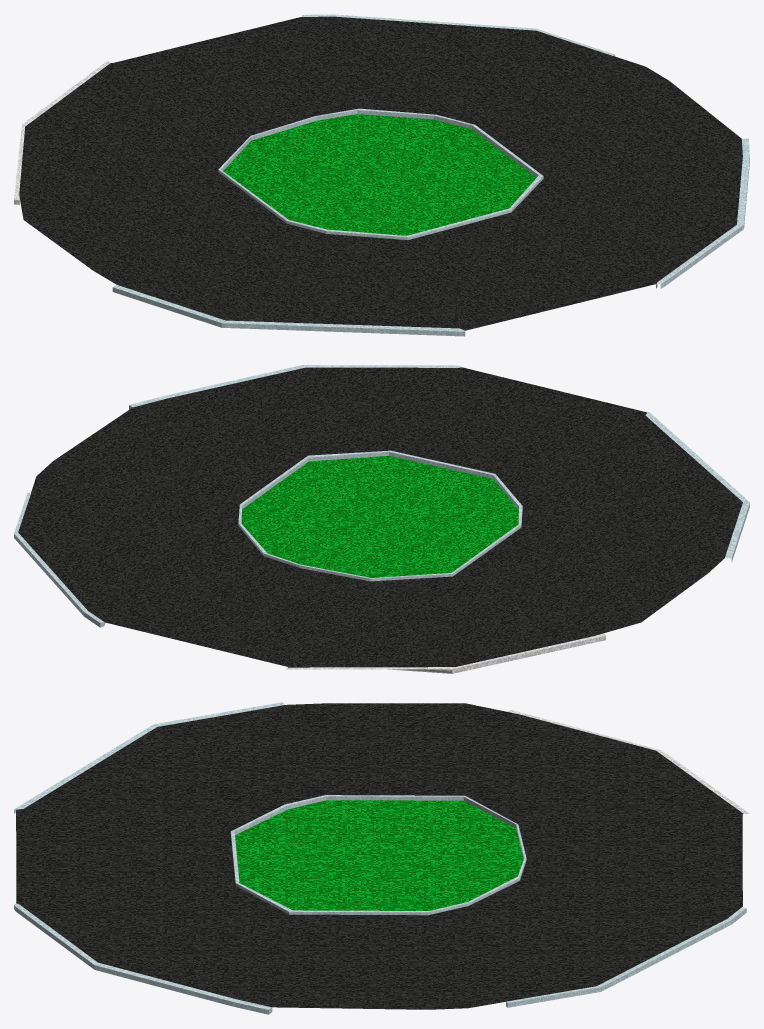
Rendered from BGN_ROUND ABOUT.fbx.
The picture shows the model from 3 angles, top to bottom: view 1: azimuth 30°, elevation 25°; view 2: azimuth 150°, elevation 25°; view 3: azimuth 270°, elevation 25°; orthographic projection. The views are drawn at different scales.
Visible parts, largest first — view 1: BGN_ROUND_ABOUT; view 2: BGN_ROUND_ABOUT; view 3: BGN_ROUND_ABOUT.
Boxes of the visible parts, box(x1,y1,x2,y2) form: BGN_ROUND_ABOUT: box(14, 14, 749, 336); BGN_ROUND_ABOUT: box(14, 365, 749, 673); BGN_ROUND_ABOUT: box(14, 702, 749, 1014).
Size of the model in its own units: 3377 by 39.24 by 3411.
